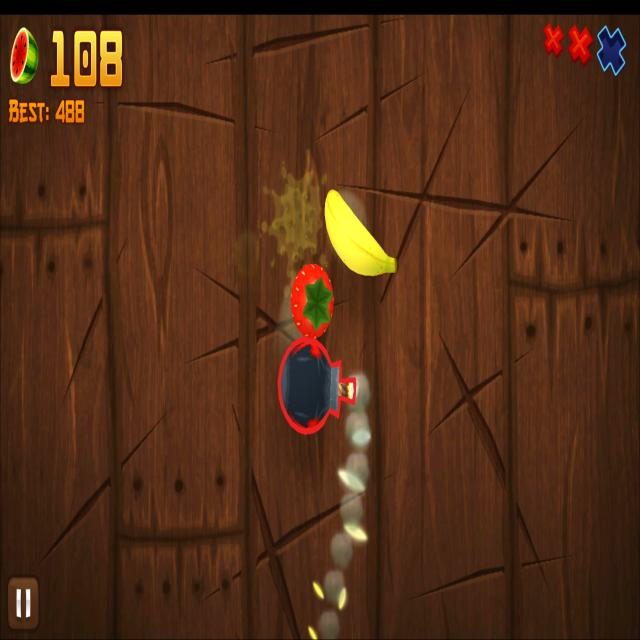bomb: (278, 339, 356, 435)
fruit: (324, 190, 399, 276), (292, 264, 334, 338)
